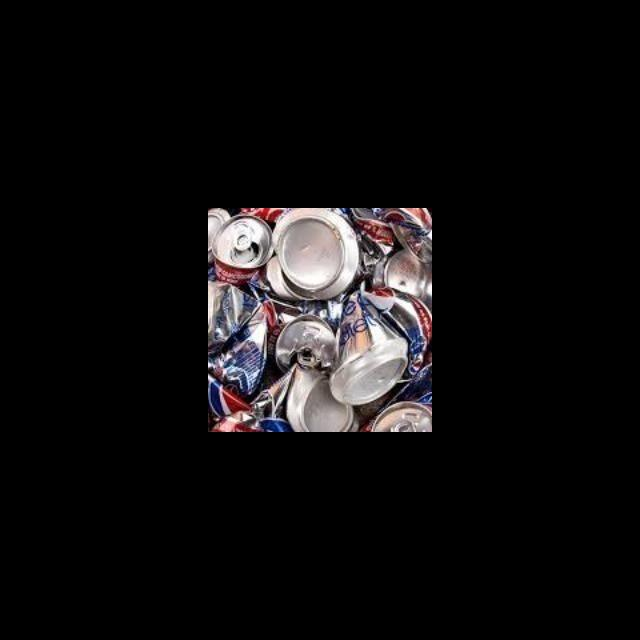metal: (270, 212, 365, 299), (326, 325, 404, 404), (280, 365, 359, 432), (210, 213, 277, 272), (274, 312, 330, 374), (377, 247, 432, 303)
